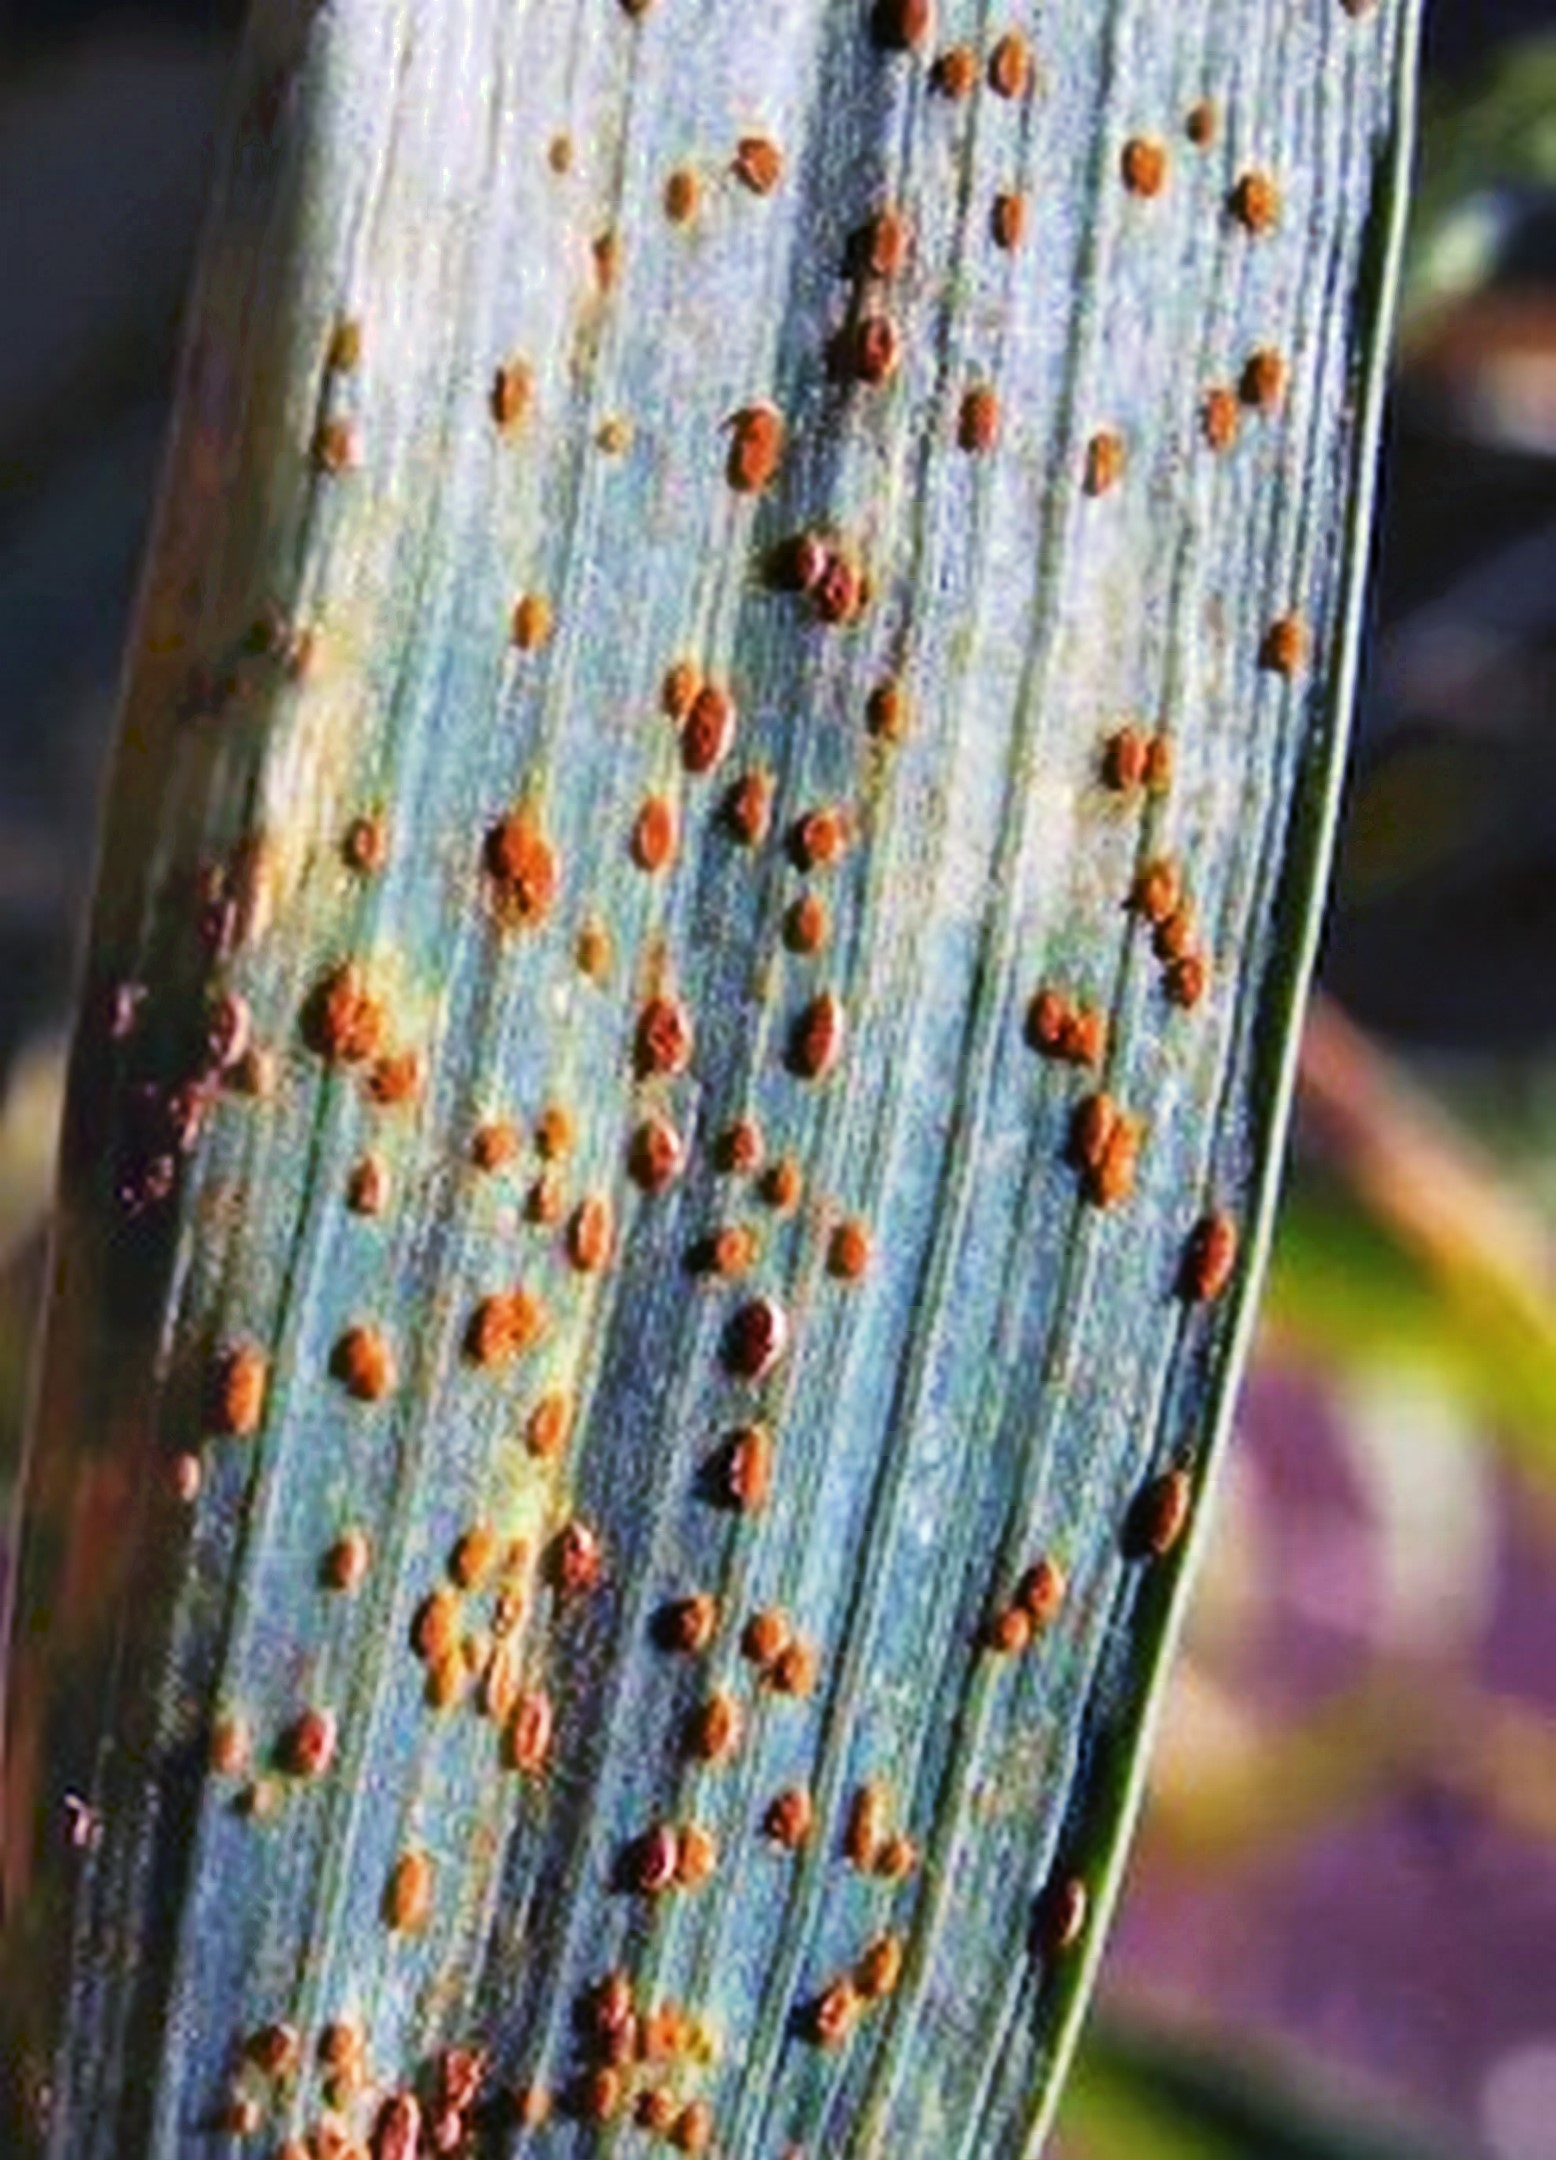Leaf Rust: (184, 413, 1330, 2061)
